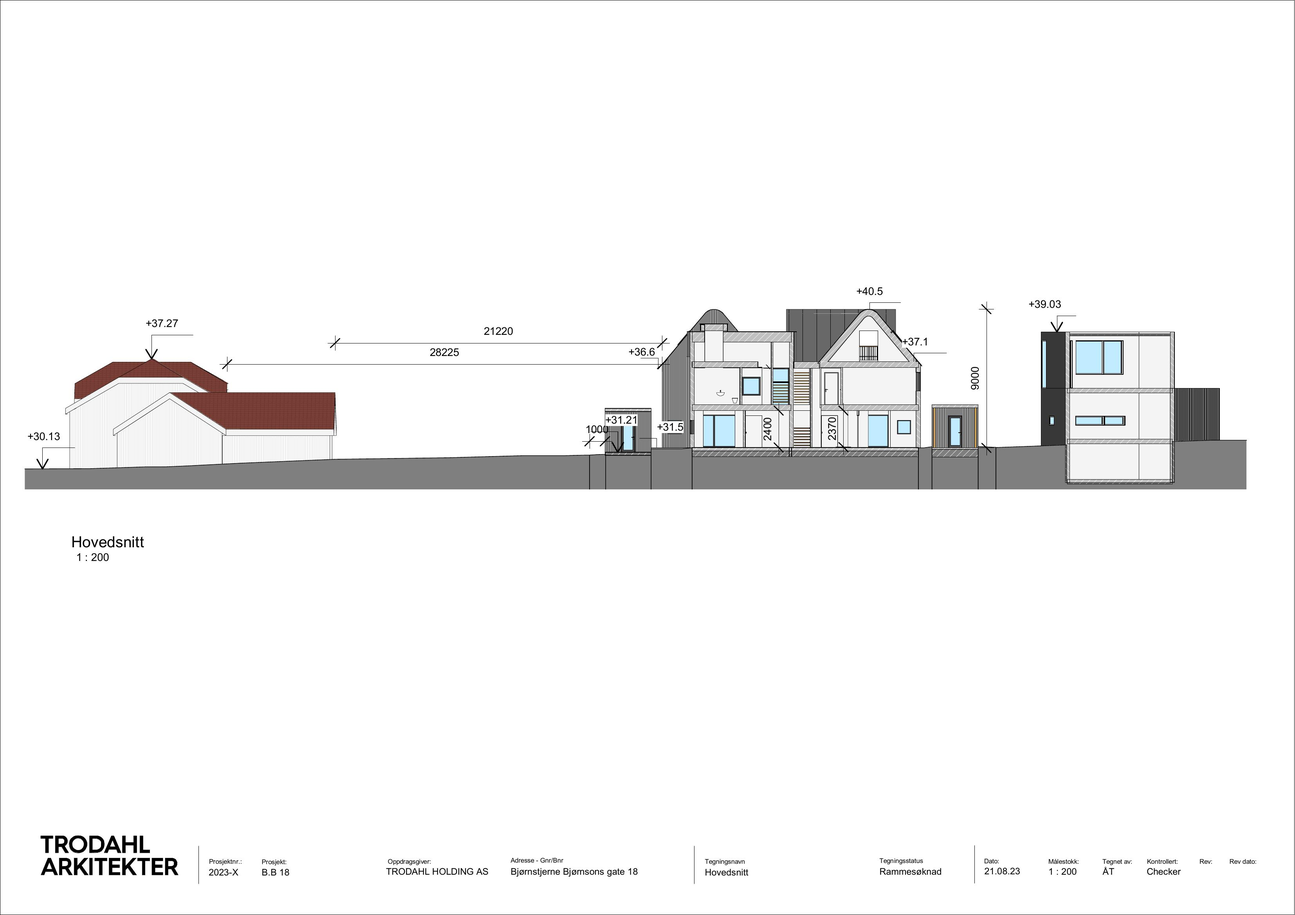snitt: (604, 308, 980, 490), (1040, 331, 1221, 491)
